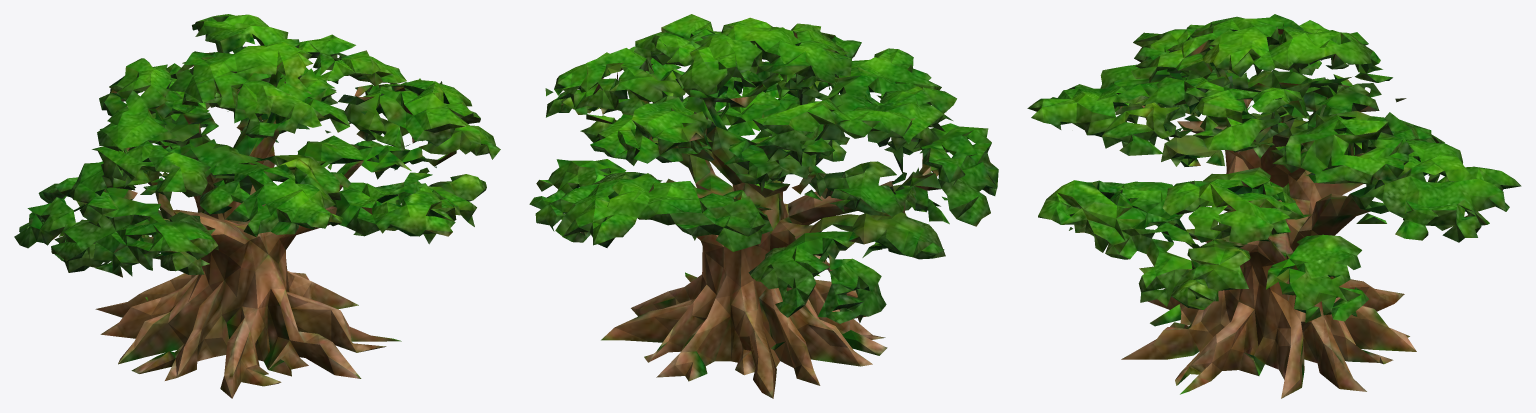
File: dino_canopy_1116.glb
3 views of the same model, side by side, from view 1: azimuth 30°, elevation 25°; view 2: azimuth 150°, elevation 25°; view 3: azimuth 270°, elevation 25° (orthographic). The views are drawn at different scales.
Parts seen in each view (by area): view 1: world; view 2: world; view 3: world.
Boxes of the visible parts, bbox=[...] form: world: bbox=[14, 14, 500, 398]; world: bbox=[529, 14, 998, 398]; world: bbox=[1027, 14, 1521, 398].
Size of the model in its own units: 1.52 by 1 by 1.44.
1 material, 1 textured.
